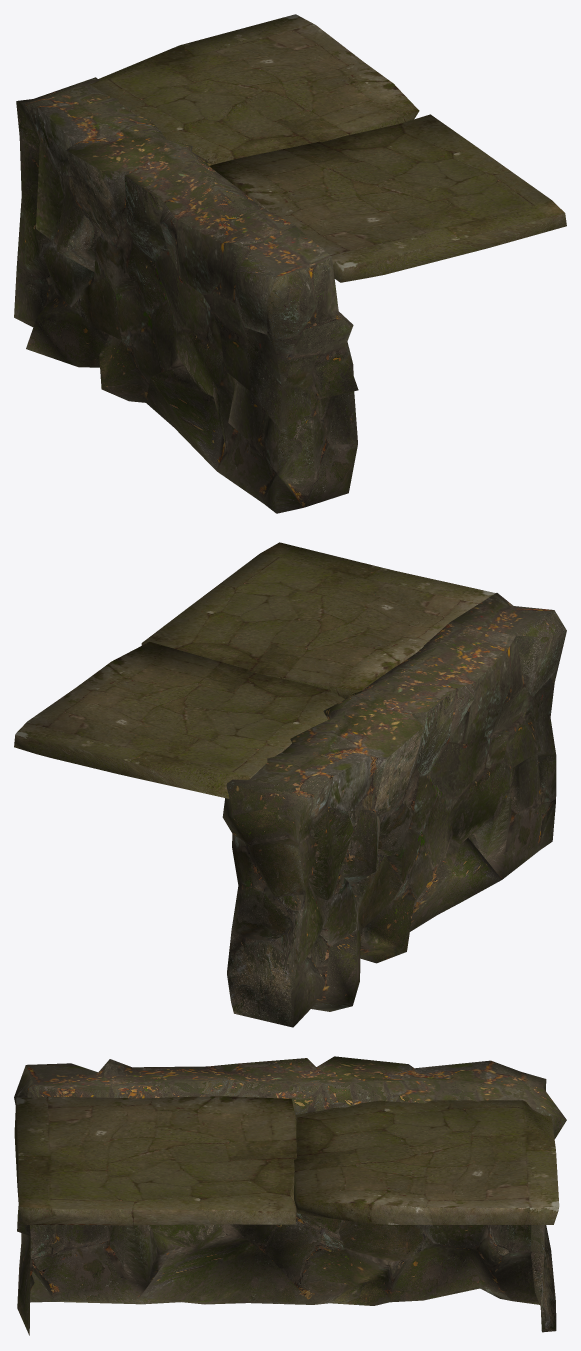
The model's file is wall_mossy_Lod4.fbx.
3 renders of one model, top to bottom at view 1: azimuth 30°, elevation 25°; view 2: azimuth 150°, elevation 25°; view 3: azimuth 270°, elevation 25°, orthographic. The views are drawn at different scales.
Parts seen in each view (by area): view 1: Aset_historical_feudal_japan_L_ulldfgb_LOD0; view 2: Aset_historical_feudal_japan_L_ulldfgb_LOD0; view 3: Aset_historical_feudal_japan_L_ulldfgb_LOD0.
Boxes of the visible parts, <box> form: Aset_historical_feudal_japan_L_ulldfgb_LOD0: <box>14,14,566,513</box>; Aset_historical_feudal_japan_L_ulldfgb_LOD0: <box>14,542,566,1027</box>; Aset_historical_feudal_japan_L_ulldfgb_LOD0: <box>14,1056,566,1335</box>.
Bounding box in the file's own units: 110 × 81.87 × 168.
